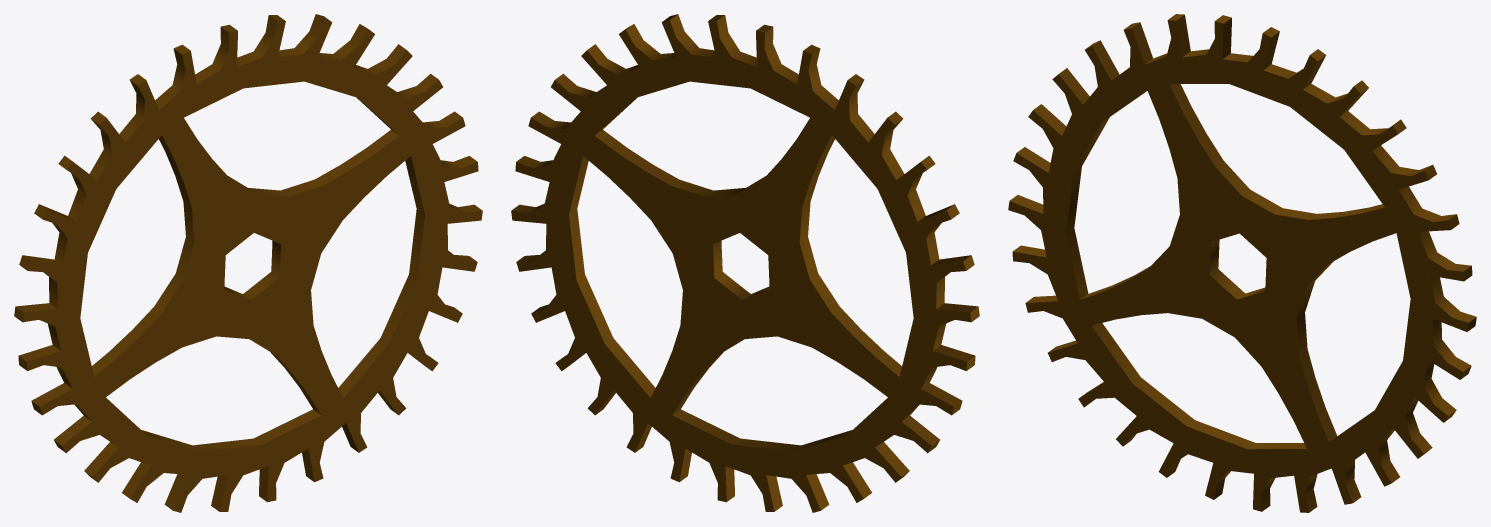
Rendered from Roue d echappement.obj.
3 renders of one model, left to right at view 1: azimuth 30°, elevation 25°; view 2: azimuth 150°, elevation 25°; view 3: azimuth 330°, elevation 25°, orthographic.
Visible parts, largest first — view 1: Face_1, Face_138, Face_126, Face_128, Face_127, Face_133, Face_139, Face_132; view 2: Face_2, Face_138, Face_126, Face_128, Face_127, Face_133, Face_139, Face_132; view 3: Face_1, Face_126, Face_130, Face_132, Face_131, Face_137, Face_139, Face_136.
Part boxes in pixels (x1,y1,x2,y2): Face_1: (22,20,482,512); Face_138: (338,156,424,397); Face_126: (141,409,321,451); Face_128: (154,202,194,312); Face_127: (92,307,162,376); Face_133: (315,130,399,185); Face_139: (224,240,280,300); Face_132: (228,176,322,196); Face_2: (511,20,971,512); Face_138: (569,156,655,397); Face_126: (672,409,852,451); Face_128: (799,202,839,312); Face_127: (831,307,901,376); Face_133: (594,130,678,185); Face_139: (713,240,769,300); Face_132: (671,176,765,196); Face_1: (1008,20,1468,512); Face_126: (1092,323,1306,449); Face_130: (1066,117,1109,299); Face_132: (1215,160,1316,219); Face_131: (1169,84,1223,166); Face_137: (1299,349,1336,441); Face_139: (1210,239,1265,299); Face_136: (1296,261,1333,354).
Bounding box in the file's own units: 0.0504 × 0.0501 × 0.0016.
